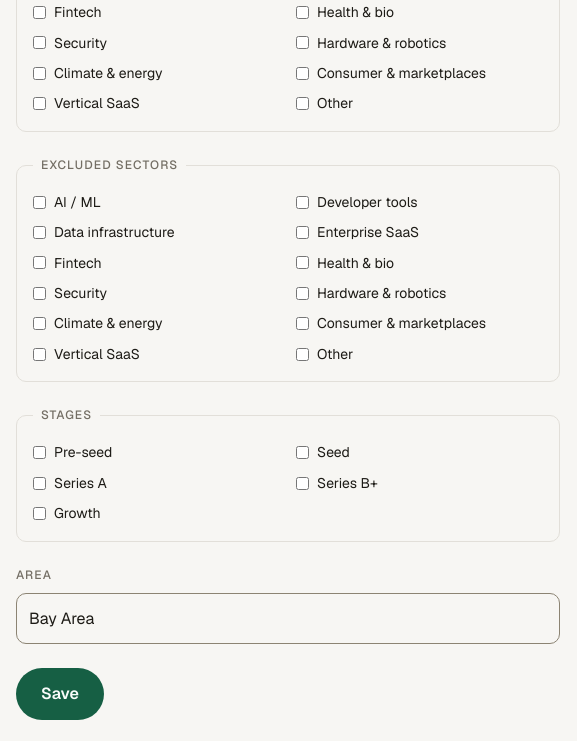
Test case: Settings › shows the rejection naming the offending field when the save is a 422
(page scrolled)
Expected: the checkbox labelled "Seed" is shown, [296,446,309,459]
Step 1. Click the button "Save" → (60, 694), box [16,668,104,720]
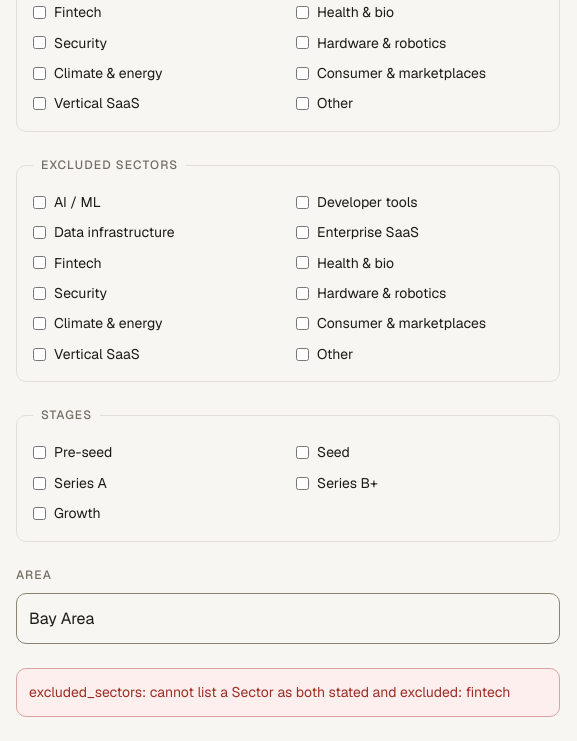
Expected: the message shows "excluded_sectors", [29,683,510,701]
